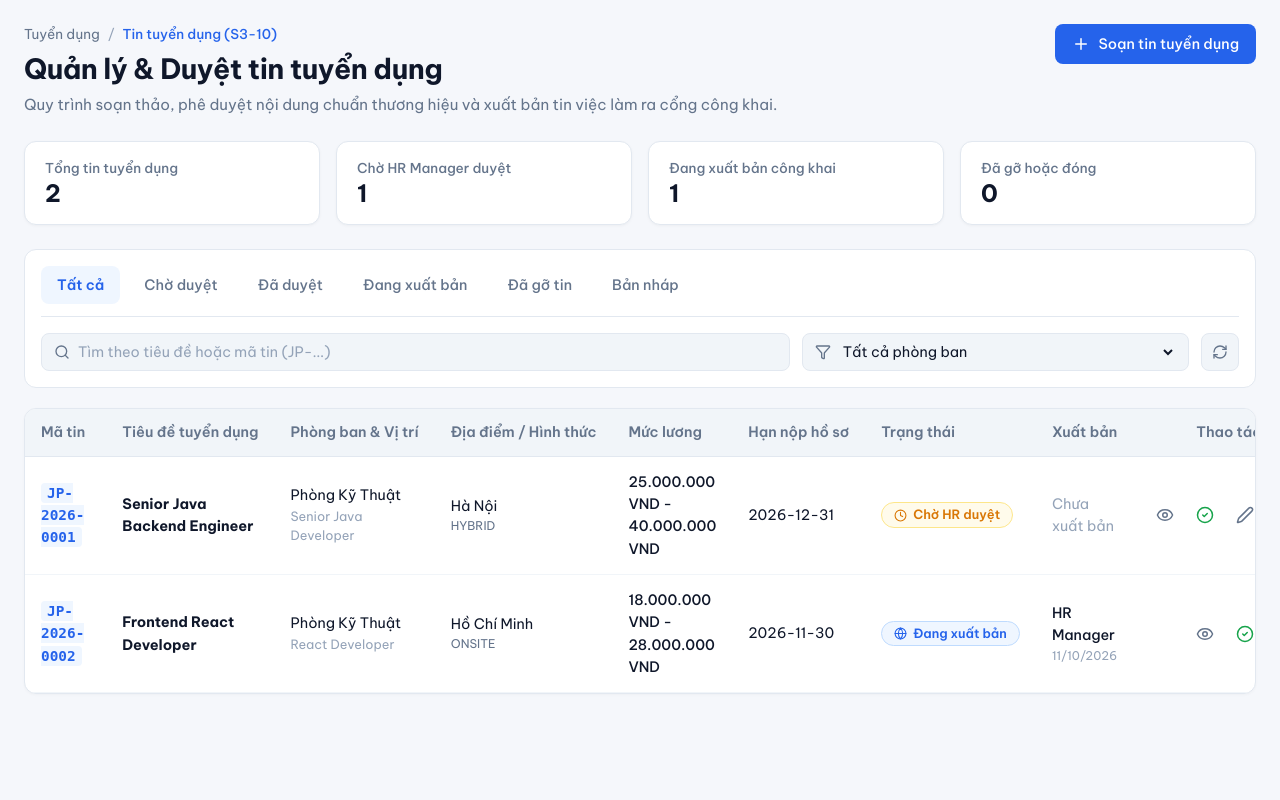
Test: JobPostingManagementPage (S3-10 / SCRUM-151 / SCRUM-149 / SCRUM-150) › TC02 (SCRUM-151 AC1 & AC2) - Mở modal xem trước tin, hiển thị toàn bộ nội dung và bản xem trước công khai
Note: Bấm nút "Xem trước & Duyệt" của tin đầu tiên
Click the button "Xem trước & Duyệt" in the row of "Senior Java Backend Engineer" at (1205, 515), box [1189,499,1221,531]
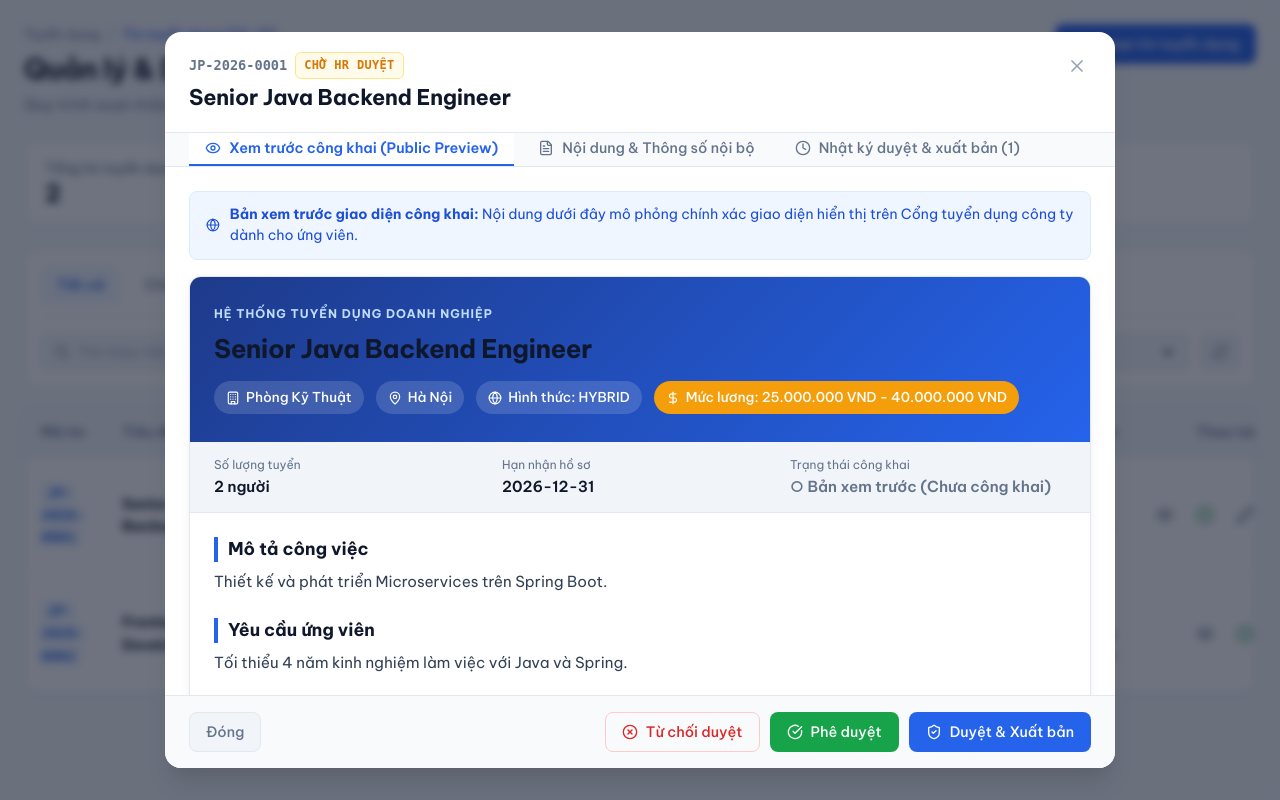
Check: the text "Bản xem trước giao diện công khai:" is shown, box [230,204,479,222]
Check: the text "HỆ THỐNG TUYỂN DỤNG DOANH NGHIỆP" is shown, box [214,306,493,321]
Check: the heading "Mô tả công việc" is shown, box [214,537,1066,562]
